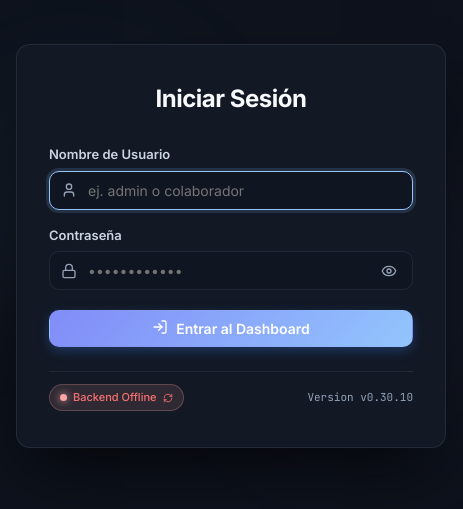
Test: LoginView Component › shows error banner when submitting with empty fields
The image size is (463, 509).
Click the button "Entrar al Dashboard": (231, 329) [49,310,413,347]
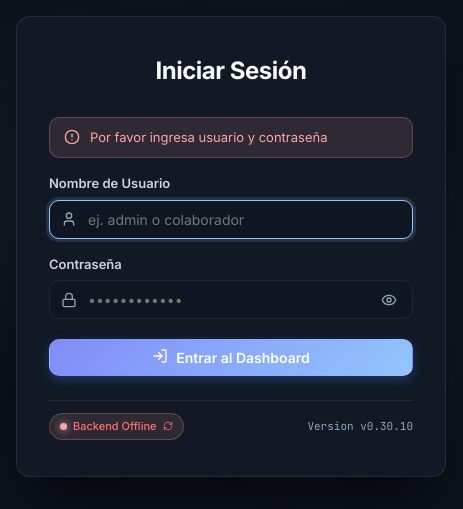
Result: the message "Por favor ingresa usuario y contraseña" is shown at [49,116,413,158]
